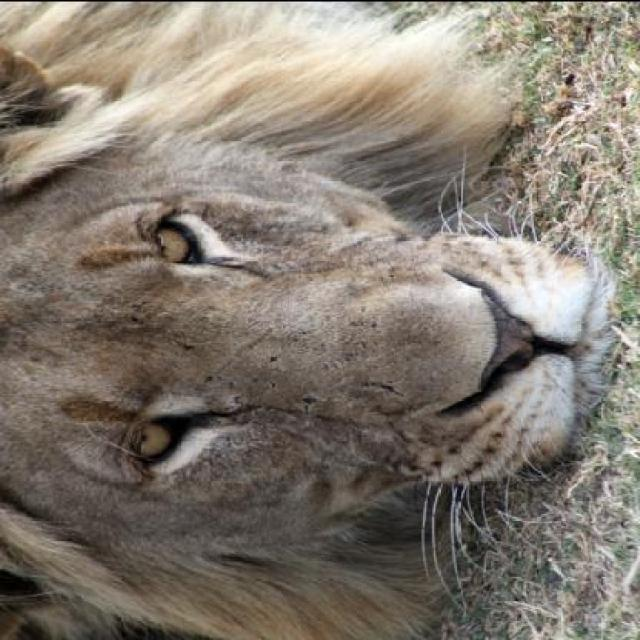Lion: (6, 61, 639, 634)
